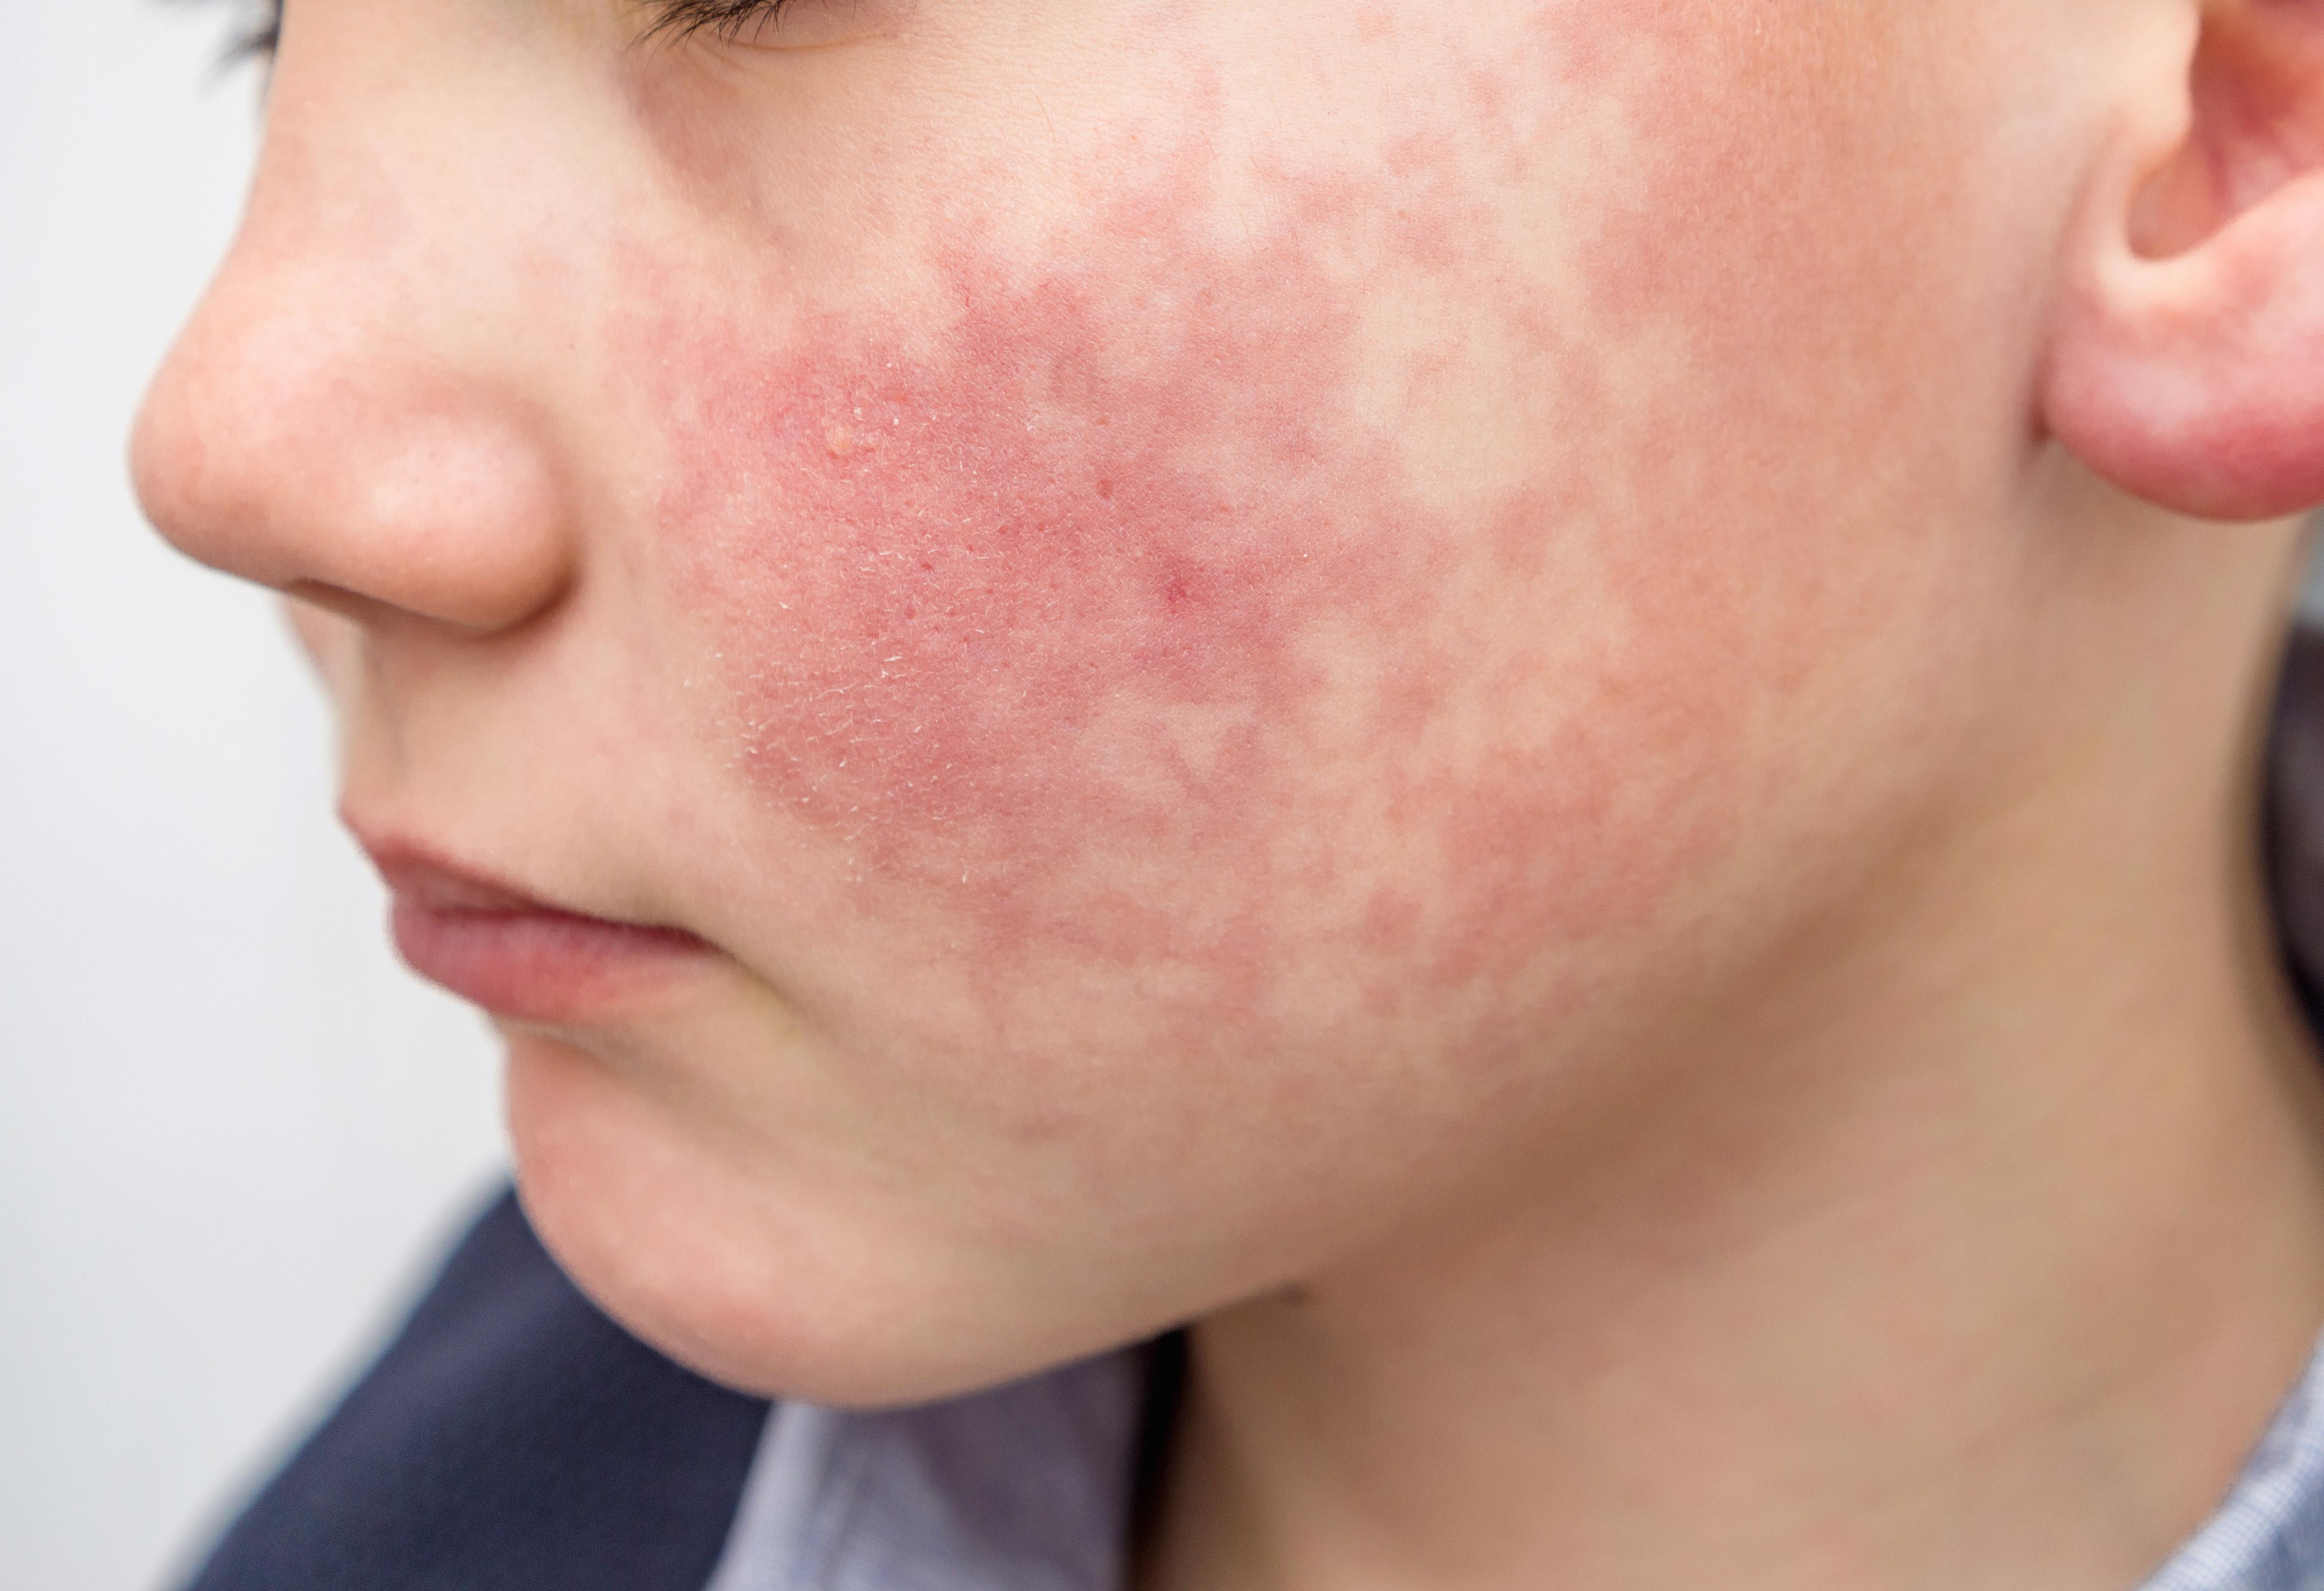Skin-Redness: (660, 244, 1476, 892)
